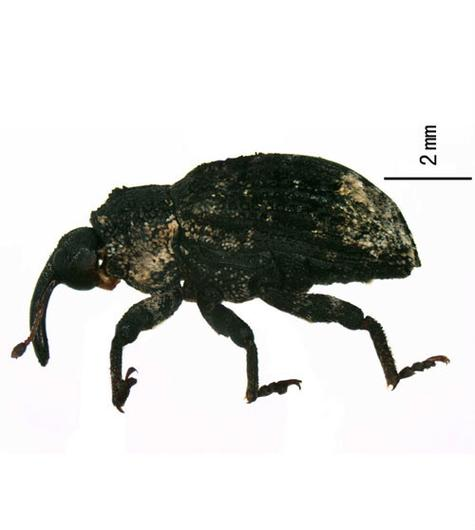Curculionidae: (8, 152, 449, 413)
